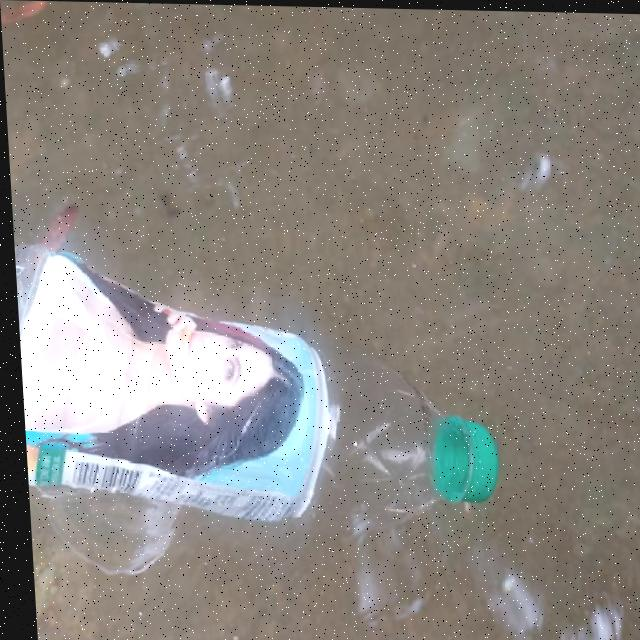waterbottle: (10, 210, 555, 559)
